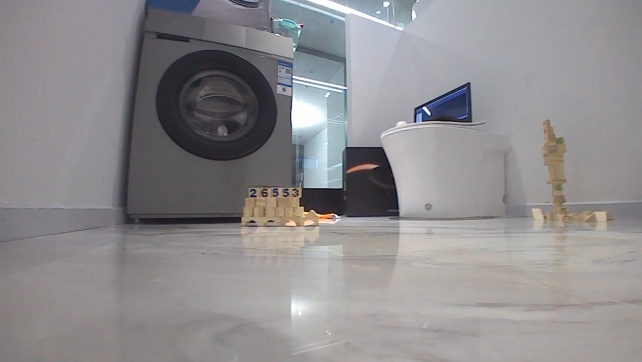plastic_toy: (531, 118, 613, 220), (240, 185, 319, 226)
toilet: (381, 120, 509, 219)
washing_machine: (125, 6, 293, 224)
